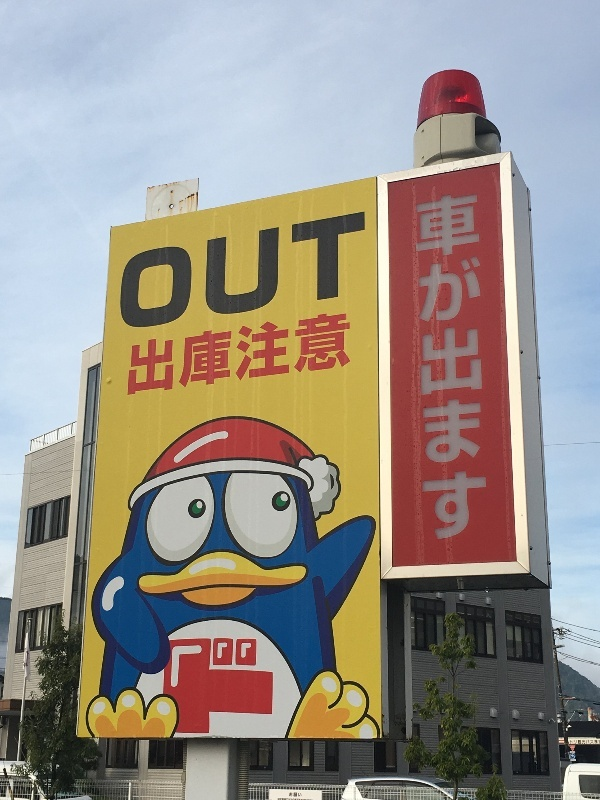text: (417, 188, 432, 552), (433, 188, 448, 552), (449, 188, 464, 552), (465, 188, 480, 552), (481, 188, 488, 552), (129, 203, 144, 338), (145, 203, 160, 338), (161, 203, 176, 338), (177, 203, 192, 338), (193, 203, 208, 338), (209, 203, 224, 338), (225, 203, 240, 338), (241, 203, 256, 338), (257, 203, 272, 338), (273, 203, 288, 338), (289, 203, 304, 338), (305, 203, 320, 338), (321, 203, 336, 338), (337, 203, 352, 338), (353, 203, 367, 338), (145, 308, 160, 405), (161, 308, 176, 405), (177, 308, 192, 405), (193, 308, 208, 405), (209, 308, 224, 405), (225, 308, 240, 405), (241, 308, 256, 405), (257, 308, 272, 405), (273, 308, 288, 405), (289, 308, 304, 405), (305, 308, 320, 405), (321, 308, 336, 405), (130, 308, 144, 405), (337, 308, 351, 405), (123, 203, 128, 338)
